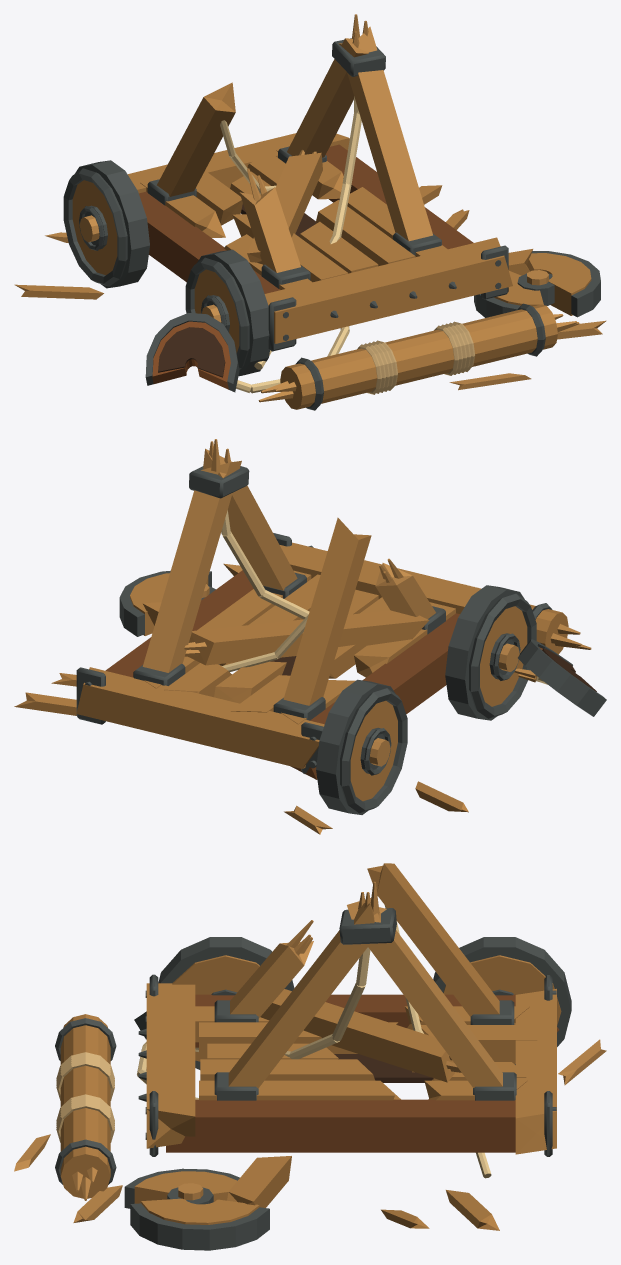
File: catapult_destroyed.glb
3 renders of one model, top to bottom at view 1: azimuth 30°, elevation 25°; view 2: azimuth 150°, elevation 25°; view 3: azimuth 270°, elevation 25°, orthographic. The views are drawn at different scales.
Parts seen in each view (by area): view 1: DestroyedCatapult_CrossFront, DestroyedCatapult_BrokenTopAxle, DestroyedCatapult_FrontSupportStanding, DestroyedCatapult_RearSupportHigh, DestroyedCatapult_FrameLeft, DestroyedCatapult_RearSupportStanding, DestroyedCatapult_Wheel_1_IronTyre, DestroyedCatapult_FrontSupportStump, DestroyedCatapult_Wheel_0_IronTyre, DestroyedCatapult_Wheel_1_Rim, DestroyedCatapult_BrokenArm_Main, DestroyedCatapult_CrossRear (+28 smaller); view 2: DestroyedCatapult_CrossRear, DestroyedCatapult_RearSupportStanding, DestroyedCatapult_RearSupportHigh, DestroyedCatapult_BrokenArm_Main, DestroyedCatapult_FrameLeft, DestroyedCatapult_FrontSupportStanding, DestroyedCatapult_Wheel_0_IronTyre, DestroyedCatapult_Wheel_1_IronTyre, DestroyedCatapult_CrossFront, DestroyedCatapult_Wheel_1_Rim, DestroyedCatapult_Wheel_0_Rim, DestroyedCatapult_Wheel_1_WoodDisc (+22 smaller); view 3: DestroyedCatapult_FrameRight, DestroyedCatapult_CrossFront, DestroyedCatapult_FrontSupportStanding, DestroyedCatapult_BrokenTopAxle, DestroyedCatapult_RearSupportStanding, DestroyedCatapult_RearSupportHigh, DestroyedCatapult_CrossRear, DestroyedCatapult_BrokenArm_Main, DestroyedCatapult_Wheel_DetachedIron_1, DestroyedCatapult_DeckPlank_4_Front, DestroyedCatapult_Wheel_1_IronTyre, DestroyedCatapult_FrontSupportStump (+29 smaller).
Boxes of the visible parts, x1=… form: DestroyedCatapult_CrossFront: x1=264, y1=237, x2=512, y2=343; DestroyedCatapult_BrokenTopAxle: x1=280, y1=304, x2=557, y2=409; DestroyedCatapult_FrontSupportStanding: x1=338, y1=26, x2=432, y2=241; DestroyedCatapult_RearSupportHigh: x1=157, y1=82, x2=235, y2=196; DestroyedCatapult_FrameLeft: x1=139, y1=191, x2=280, y2=293; DestroyedCatapult_RearSupportStanding: x1=287, y1=38, x2=368, y2=157; DestroyedCatapult_Wheel_1_IronTyre: x1=75, y1=160, x2=149, y2=288; DestroyedCatapult_FrontSupportStump: x1=239, y1=187, x2=300, y2=272; DestroyedCatapult_Wheel_0_IronTyre: x1=197, y1=249, x2=269, y2=376; DestroyedCatapult_Wheel_1_Rim: x1=63, y1=168, x2=127, y2=286; DestroyedCatapult_BrokenArm_Main: x1=247, y1=152, x2=322, y2=264; DestroyedCatapult_CrossRear: x1=127, y1=133, x2=349, y2=193; DestroyedCatapult_CrossRear: x1=76, y1=667, x2=324, y2=768; DestroyedCatapult_RearSupportStanding: x1=142, y1=460, x2=241, y2=672; DestroyedCatapult_RearSupportHigh: x1=283, y1=517, x2=371, y2=705; DestroyedCatapult_BrokenArm_Main: x1=187, y1=610, x2=429, y2=665; DestroyedCatapult_FrameLeft: x1=291, y1=613, x2=459, y2=779; DestroyedCatapult_FrontSupportStanding: x1=203, y1=448, x2=297, y2=590; DestroyedCatapult_Wheel_0_IronTyre: x1=445, y1=585, x2=524, y2=720; DestroyedCatapult_Wheel_1_IronTyre: x1=316, y1=679, x2=395, y2=814; DestroyedCatapult_CrossFront: x1=280, y1=542, x2=481, y2=613; DestroyedCatapult_Wheel_1_Rim: x1=340, y1=688, x2=407, y2=813; DestroyedCatapult_Wheel_0_Rim: x1=469, y1=593, x2=536, y2=718; DestroyedCatapult_Wheel_1_WoodDisc: x1=350, y1=700, x2=397, y2=801; DestroyedCatapult_FrameRight: x1=166, y1=1099, x2=515, y2=1152; DestroyedCatapult_CrossFront: x1=146, y1=983, x2=195, y2=1148; DestroyedCatapult_FrontSupportStanding: x1=228, y1=903, x2=386, y2=1088; DestroyedCatapult_BrokenTopAxle: x1=60, y1=1014, x2=110, y2=1198; DestroyedCatapult_RearSupportStanding: x1=347, y1=898, x2=502, y2=1087; DestroyedCatapult_RearSupportHigh: x1=367, y1=863, x2=499, y2=1016; DestroyedCatapult_CrossRear: x1=515, y1=988, x2=556, y2=1154; DestroyedCatapult_BrokenArm_Main: x1=260, y1=989, x2=455, y2=1082; DestroyedCatapult_Wheel_DetachedIron_1: x1=130, y1=1203, x2=269, y2=1250; DestroyedCatapult_DeckPlank_4_Front: x1=199, y1=1080, x2=400, y2=1100; DestroyedCatapult_Wheel_1_IronTyre: x1=433, y1=937, x2=571, y2=1064; DestroyedCatapult_FrontSupportStump: x1=230, y1=941, x2=313, y2=1018.
Size of the model in its own units: 4.78 by 2.65 by 4.87.
